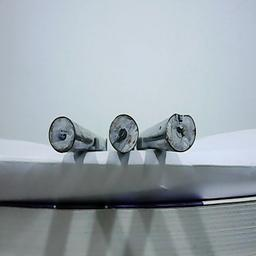pen: (107, 112, 139, 153), (167, 112, 196, 151), (48, 116, 75, 153)
